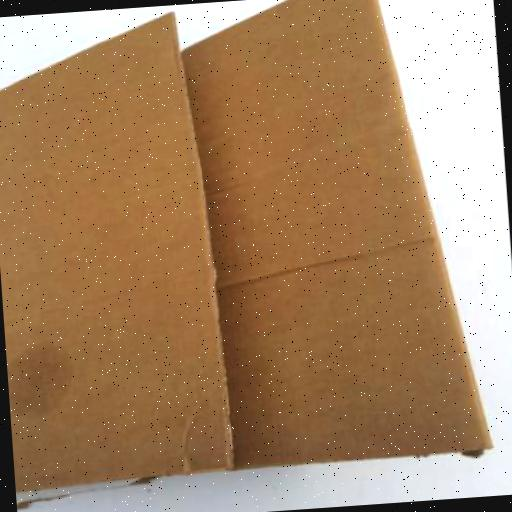cardboard: (0, 0, 499, 509), (0, 8, 237, 508)
